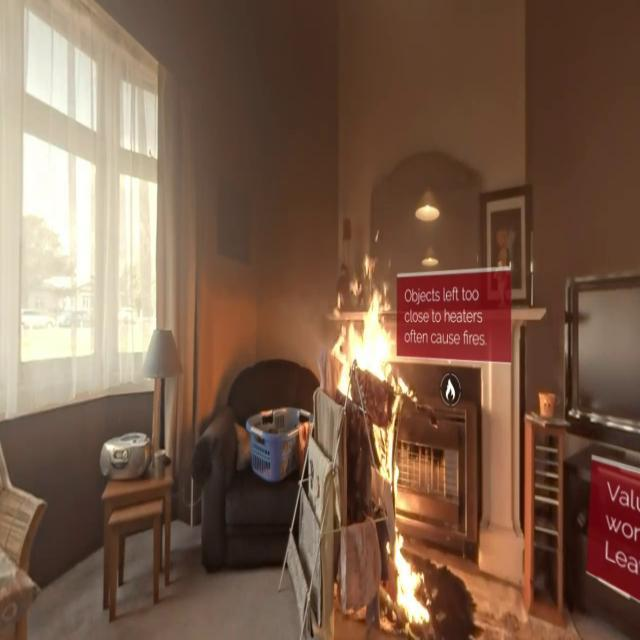Fire: (372, 406, 426, 626), (328, 276, 401, 408), (388, 524, 434, 632)
